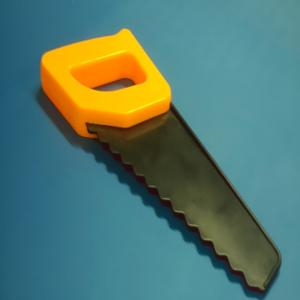serrote: (41, 28, 282, 295)
